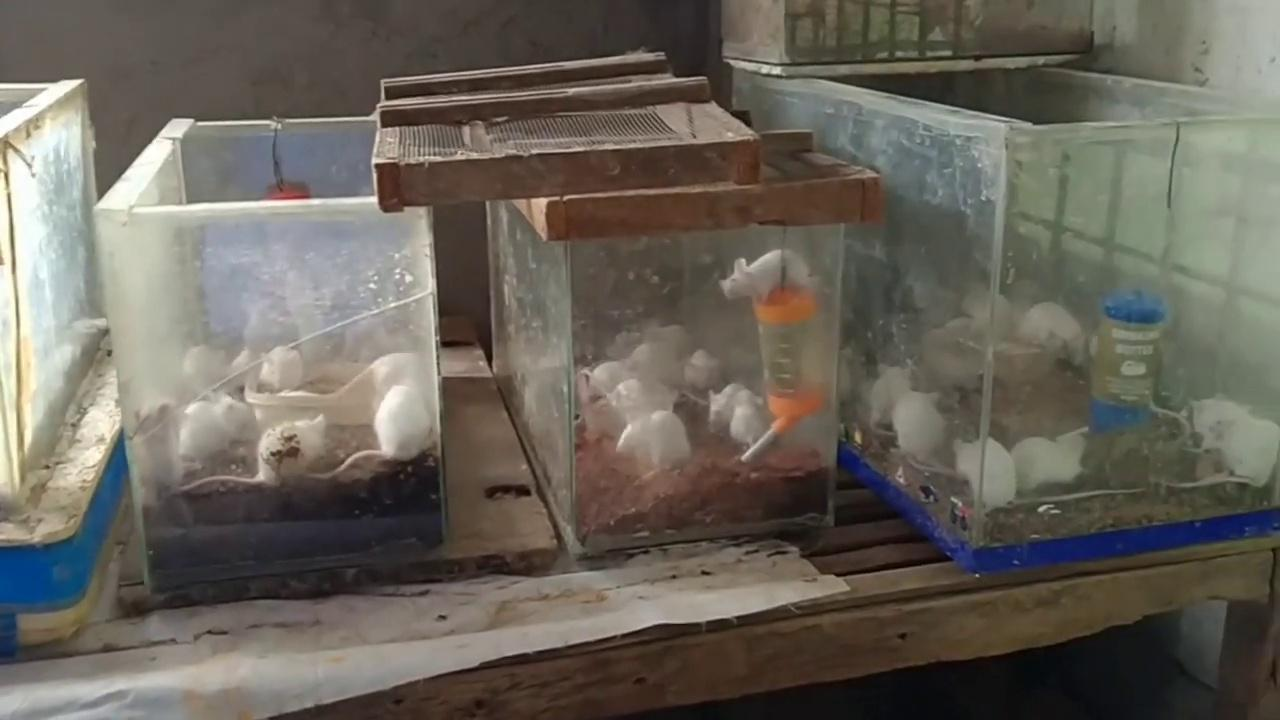rat: (176, 413, 327, 496), (311, 386, 429, 480), (299, 355, 428, 406), (1204, 411, 1280, 486), (618, 410, 694, 481), (726, 249, 824, 304), (1017, 301, 1086, 371), (958, 434, 1016, 511), (891, 386, 950, 456), (635, 324, 691, 387), (189, 397, 251, 453), (871, 360, 914, 426), (260, 343, 303, 392), (187, 346, 229, 395), (710, 381, 742, 432), (683, 348, 719, 391), (734, 394, 762, 447)
